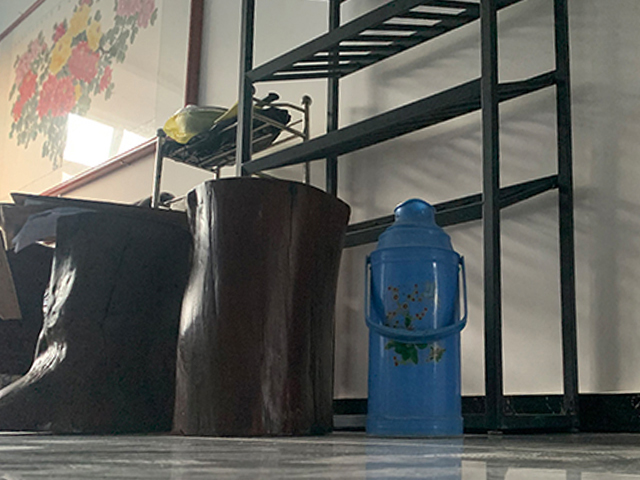stool: (171, 177, 352, 437), (1, 212, 188, 435)
